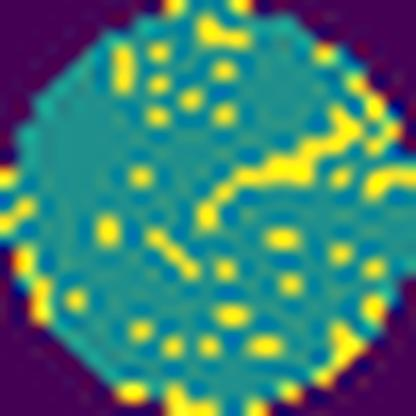Scratch: (197, 100, 370, 238)
